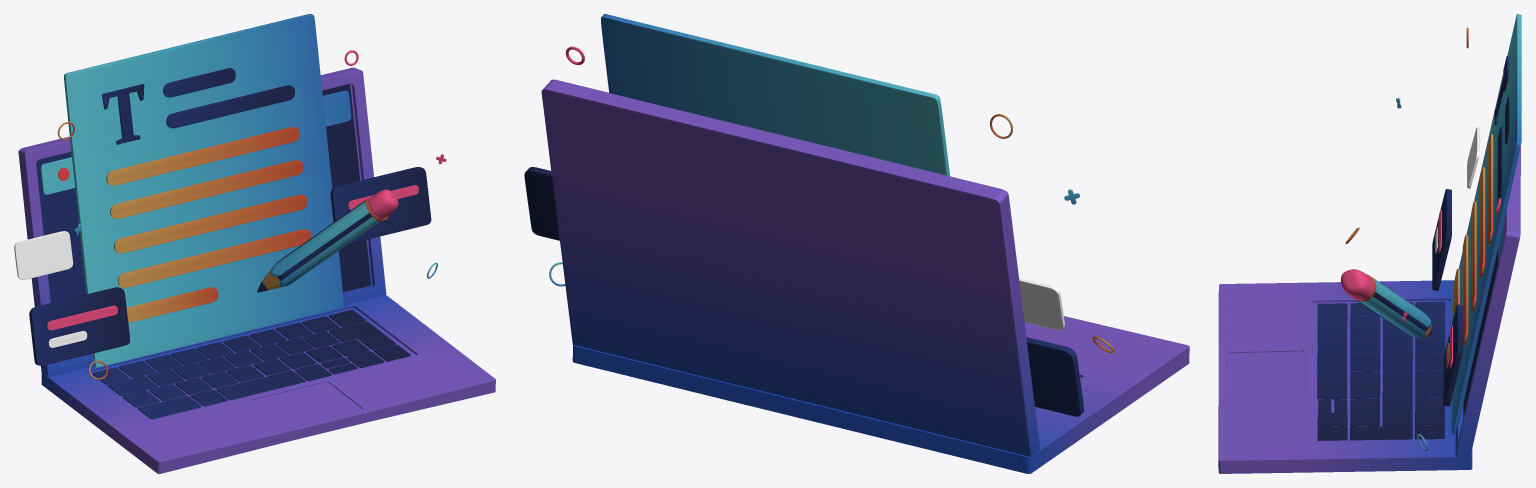
File: copywriting-3d-animated-icon-543942141548.glb
The picture shows the model from 3 angles, left to right: view 1: azimuth 30°, elevation 25°; view 2: azimuth 150°, elevation 25°; view 3: azimuth 270°, elevation 25°; orthographic projection. The views are drawn at different scales.
Visible parts, largest first — view 1: Paper, Cube.016, Cube.017, Cube.015, Cube.005, Cube.004, Cube.023, Paper.003, Paper.005, Paper.004, Paper.006, Cube.006 (+7 smaller); view 2: Cube.015, Paper, Cube.016, Cube.005, Cube.004, Cube.006; view 3: Cube.016, Cube.017, Paper, Cube.015, Cube.023, Cube.004, Cube.005, Cube.022, Paper.003, Paper.004, Paper.006, Paper.005 (+2 smaller).
Boxes of the visible parts, x1,y1,x2,y2 form: Paper: (64, 14, 343, 367); Cube.016: (41, 295, 495, 473); Cube.017: (92, 310, 410, 419); Cube.015: (18, 67, 386, 377); Cube.005: (29, 287, 129, 365); Cube.004: (330, 167, 431, 244); Cube.023: (257, 198, 383, 292); Paper.003: (106, 126, 299, 185); Paper.005: (114, 194, 307, 253); Paper.004: (110, 160, 303, 218); Paper.006: (118, 229, 311, 287); Cube.006: (14, 231, 73, 279); Cube.015: (541, 79, 1039, 457); Paper: (601, 14, 949, 176); Cube.016: (572, 316, 1189, 473); Cube.005: (1026, 337, 1083, 416); Cube.004: (524, 167, 559, 240); Cube.006: (1019, 278, 1064, 330); Cube.016: (1218, 280, 1472, 473); Cube.017: (1317, 301, 1445, 440); Paper: (1451, 14, 1521, 433); Cube.015: (1455, 72, 1520, 457); Cube.023: (1354, 274, 1431, 338); Cube.004: (1443, 304, 1463, 406); Cube.005: (1432, 189, 1451, 290); Cube.022: (1341, 269, 1373, 300); Paper.003: (1487, 134, 1493, 244); Paper.004: (1479, 167, 1485, 277); Paper.006: (1462, 235, 1468, 345); Paper.005: (1471, 201, 1476, 311).
Bounding box in the file's own units: 6.36 × 4.34 × 3.87.
Materials: 12 (7 with a texture image).
